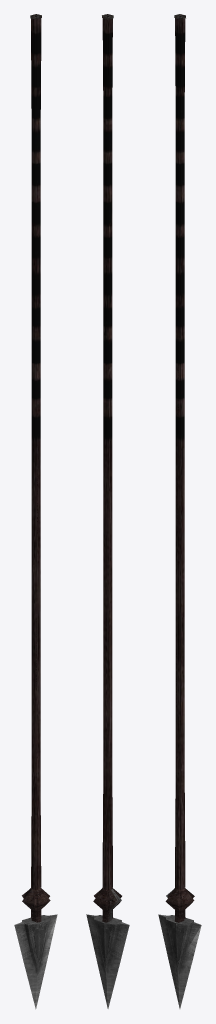
File: Spear.FBX
3 views of the same model, side by side, from view 1: azimuth 30°, elevation 25°; view 2: azimuth 150°, elevation 25°; view 3: azimuth 330°, elevation 25° (orthographic).
Visible parts, largest first — view 1: Object001; view 2: Object001; view 3: Object001.
Part boxes in pixels (bbox=[...]): Object001: bbox=[14, 14, 57, 1009]; Object001: bbox=[86, 14, 129, 1008]; Object001: bbox=[158, 14, 201, 1008].
Size of the model in its own units: 4.47 by 97.84 by 2.59.
Materials: 1 (1 with a texture image).
